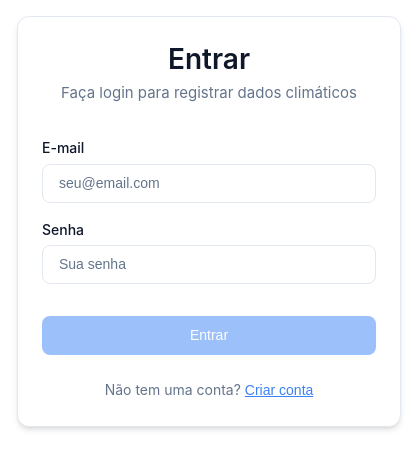
Scenario: LoginView › should show email validation error for invalid email
Type "not-an-email" into the field with id "email".
click(209, 183); type("not-an-email")  # box [42,164,376,203]
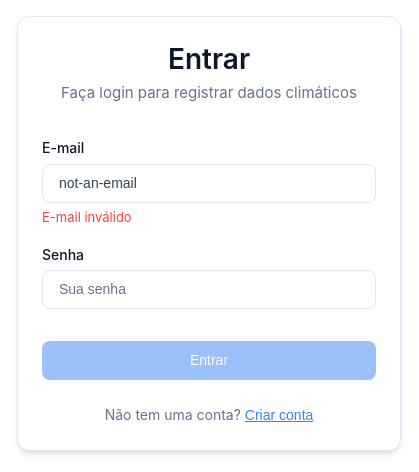
Expected: the text with class "error-text" reads "E-mail inválido", [42,209,132,225]
